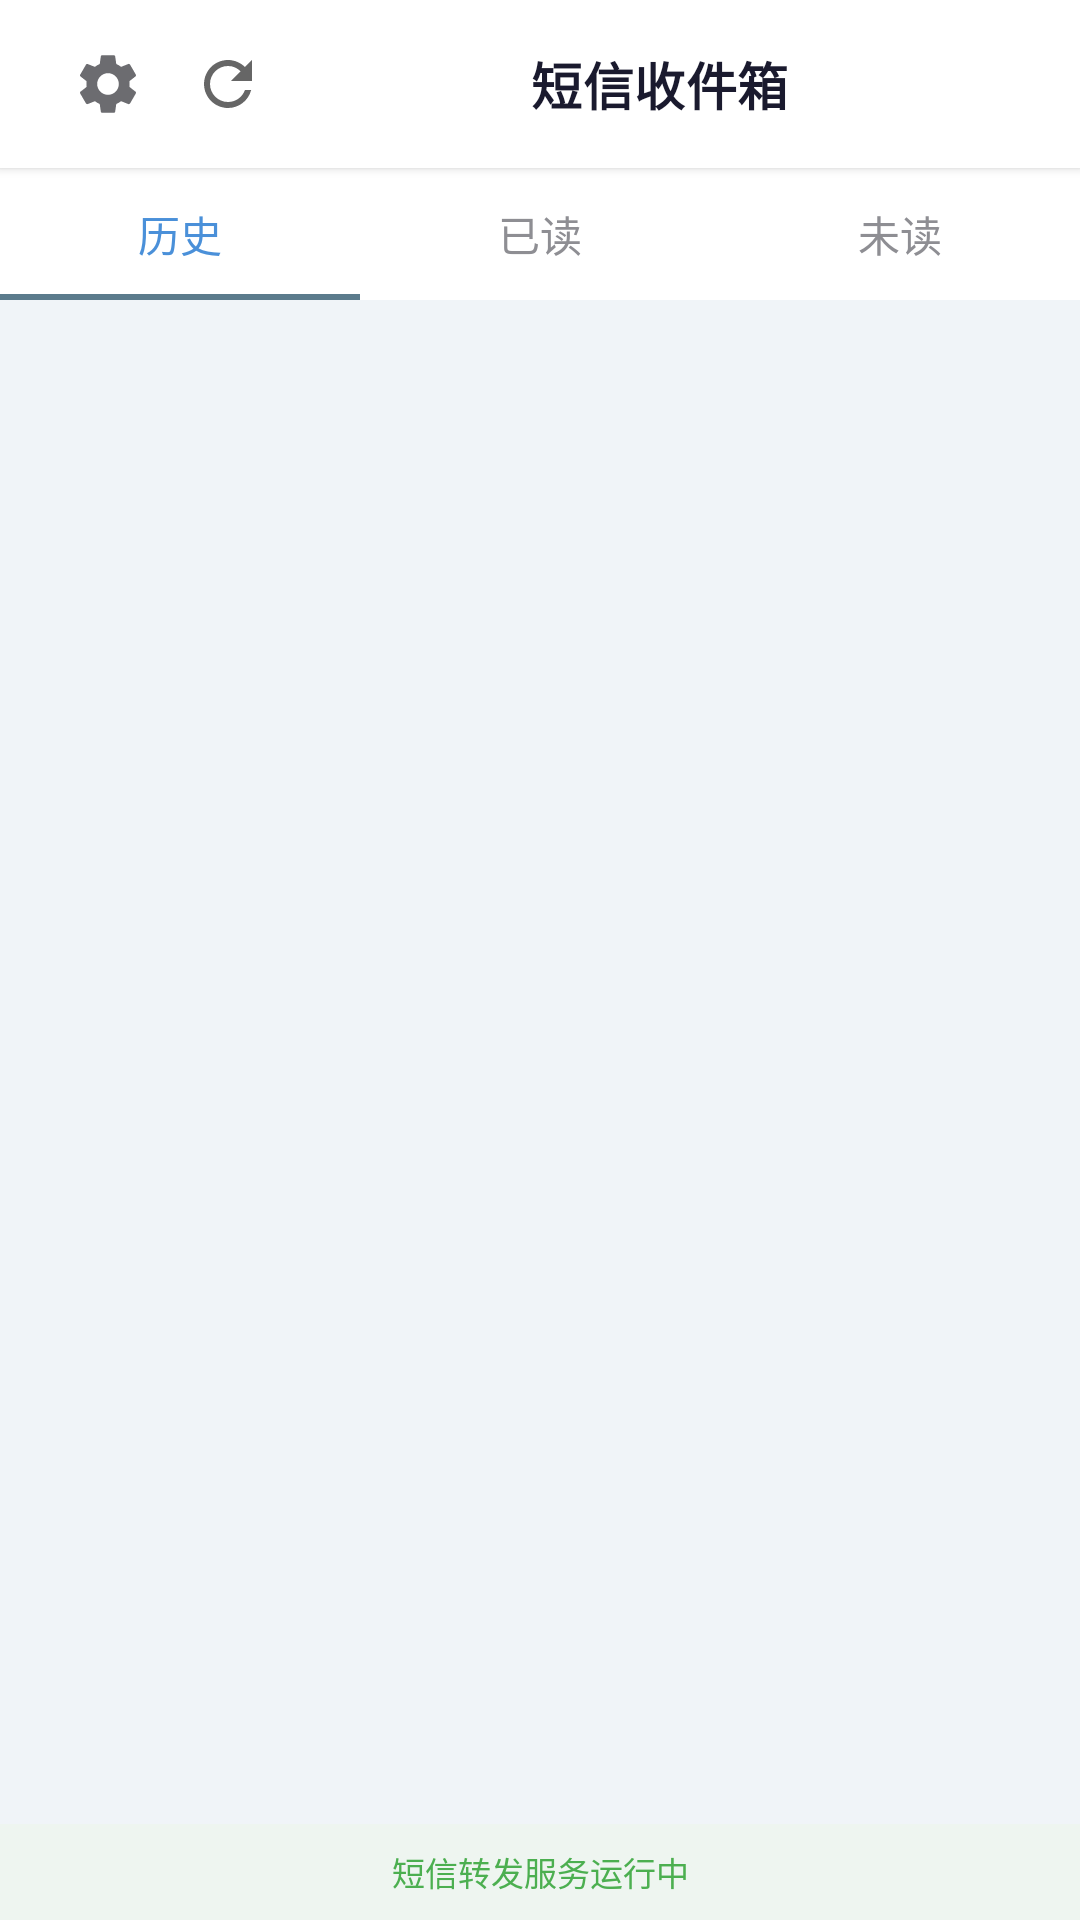

Icons on this 1080px×1920px Android screen, each with the point to tap as point (x, y):
刷新: point (228, 84)
设置: point (108, 84)
